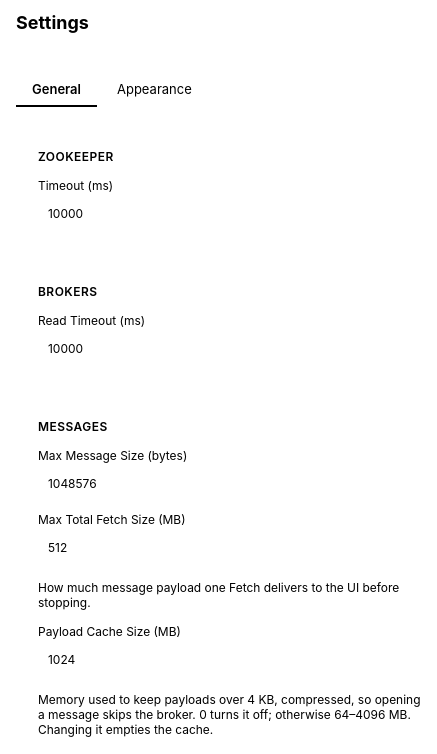
Scenario: SettingsPanel tabs › does not show General's timeout fields while Appearance is active
Click the tab "Appearance": coordinates (154, 90) [101,73,208,107]
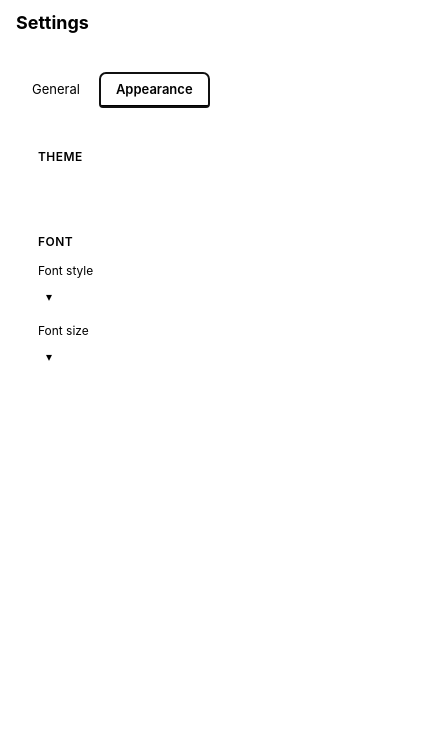
Result: the field labelled "Zookeeper Timeout (ms)" is gone
